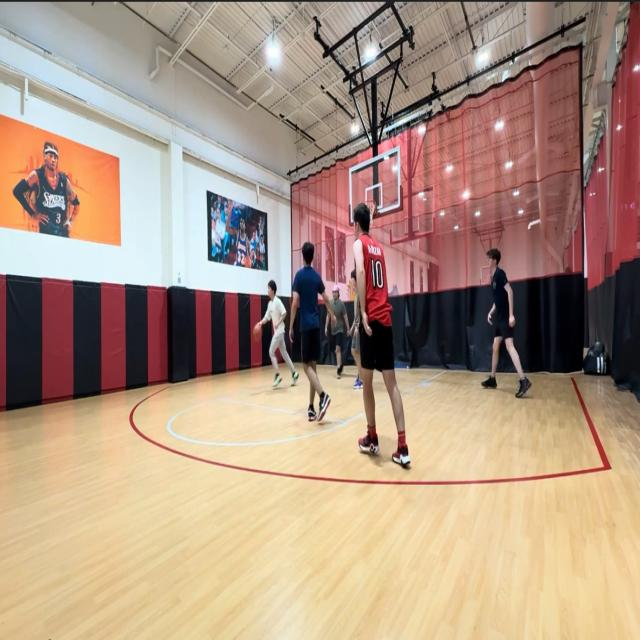Basketball: (252, 322, 262, 340)
Basketball Rim: (364, 200, 376, 223)
Player: (352, 204, 411, 469), (287, 240, 337, 422), (481, 248, 532, 396), (258, 280, 298, 388), (324, 283, 350, 379)
